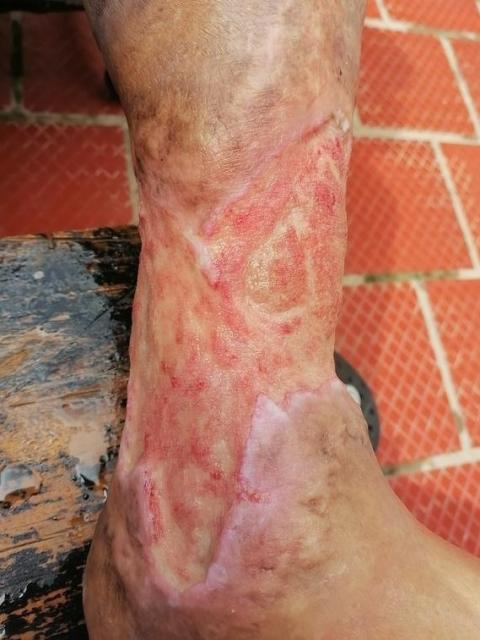wound: (124, 126, 350, 604)
